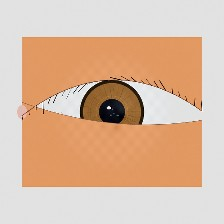pinguecula_lesion: (142, 97, 178, 126)
